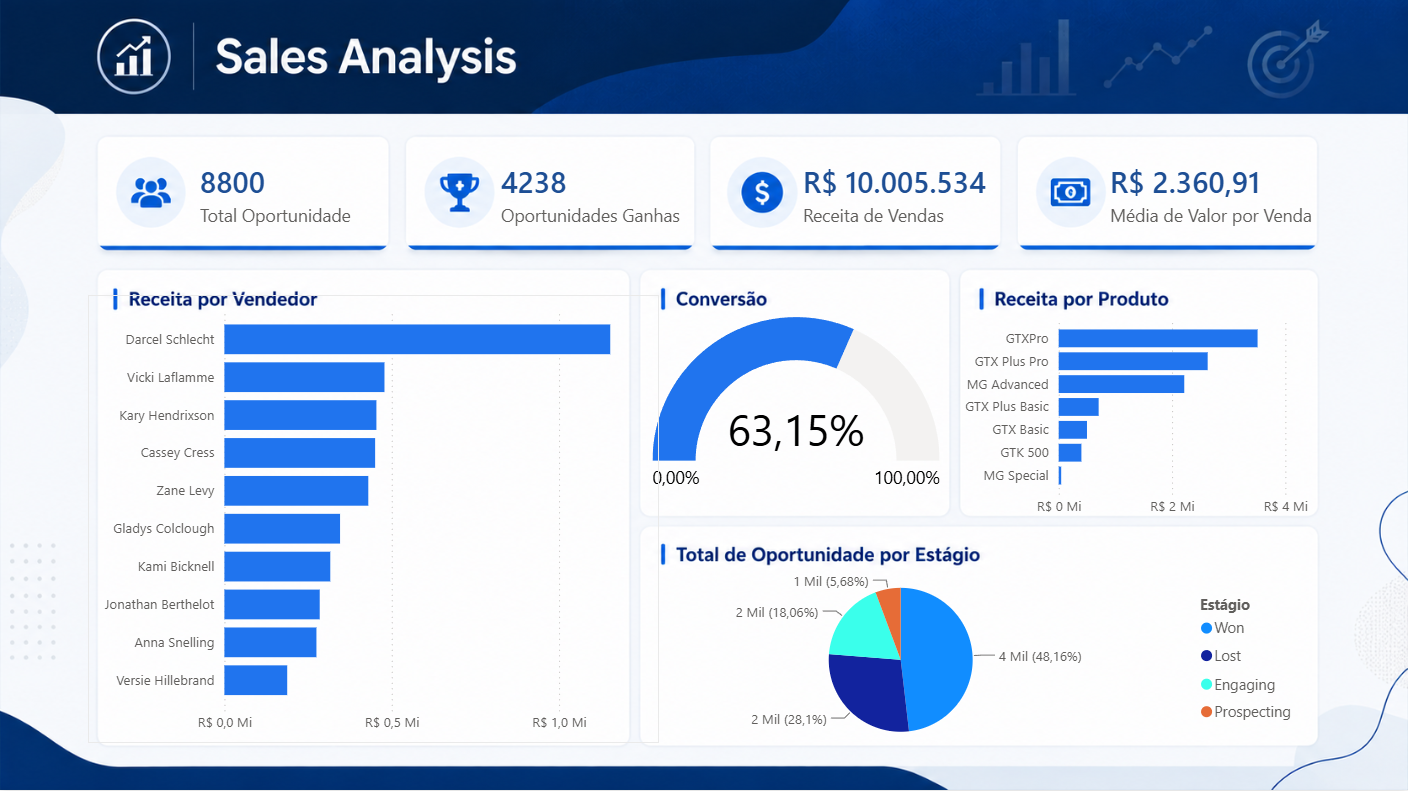

The dashboard page shown, as its layout file describes it:
{"tool":"powerbi","page":{"name":"Overview","canvas":[1280,720],"ordinal":0},"visuals":[{"type":"cardVisual","fields":{"Data":["sales_pipeline.Total Oportunidade"]},"box":[153,117,200,120],"z":0},{"type":"gauge","fields":{"Y":["sales_pipeline.Conversão"]},"box":[588,262,271,218],"z":1000},{"type":"barChart","fields":{"Y":["sales_pipeline.Receita"],"Category":["sales_pipeline.product"]},"box":[865,280,329,200],"z":2000},{"type":"barChart","fields":{"Category":["sales_pipeline.sales_agent"],"Y":["sales_pipeline.Receita"]},"box":[80,270,519,407],"z":3000},{"type":"pieChart","fields":{"Y":["sales_pipeline.Total Oportunidade"],"Category":["sales_pipeline.deal_stage"]},"box":[542,514,646,176],"z":4000},{"type":"cardVisual","fields":{"Data":["sales_pipeline.Oportunidades Ganhas"]},"box":[426,117,286,120],"z":5000},{"type":"cardVisual","fields":{"Data":["sales_pipeline.Receita"]},"box":[701,117,231,120],"z":6000},{"type":"cardVisual","fields":{"Data":["sales_pipeline.Média Venda"]},"box":[980,117,264,120],"z":7000}]}

Visuals, with their boxes in screenshot pixels (x1, y1, x2, y2), scaled from the page's 1280x720 canvas onto the 1408x791 screenshot:
cardVisual - sales_pipeline.Total Oportunidade: detection(168, 129, 388, 260)
gauge - sales_pipeline.Conversão: detection(647, 288, 945, 527)
barChart - sales_pipeline.Receita x sales_pipeline.product: detection(952, 308, 1313, 527)
barChart - sales_pipeline.sales_agent x sales_pipeline.Receita: detection(88, 297, 659, 744)
pieChart - sales_pipeline.Total Oportunidade x sales_pipeline.deal_stage: detection(596, 565, 1307, 758)
cardVisual - sales_pipeline.Oportunidades Ganhas: detection(469, 129, 783, 260)
cardVisual - sales_pipeline.Receita: detection(771, 129, 1025, 260)
cardVisual - sales_pipeline.Média Venda: detection(1078, 129, 1368, 260)
